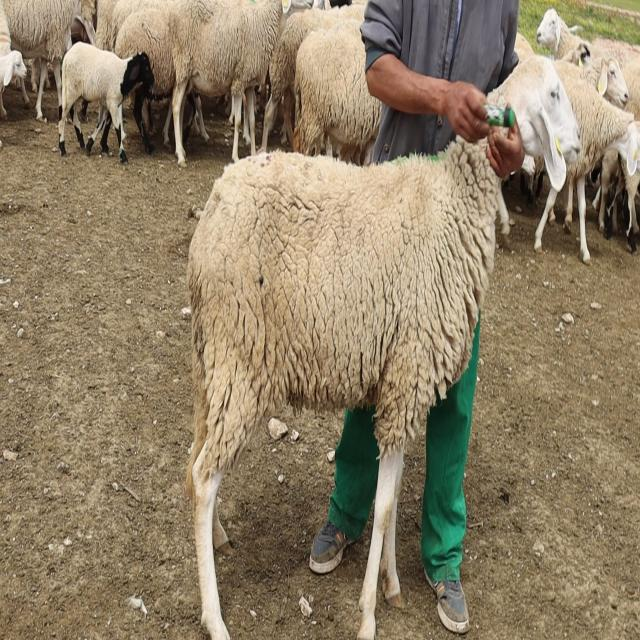Score_1: (186, 139, 500, 639)
